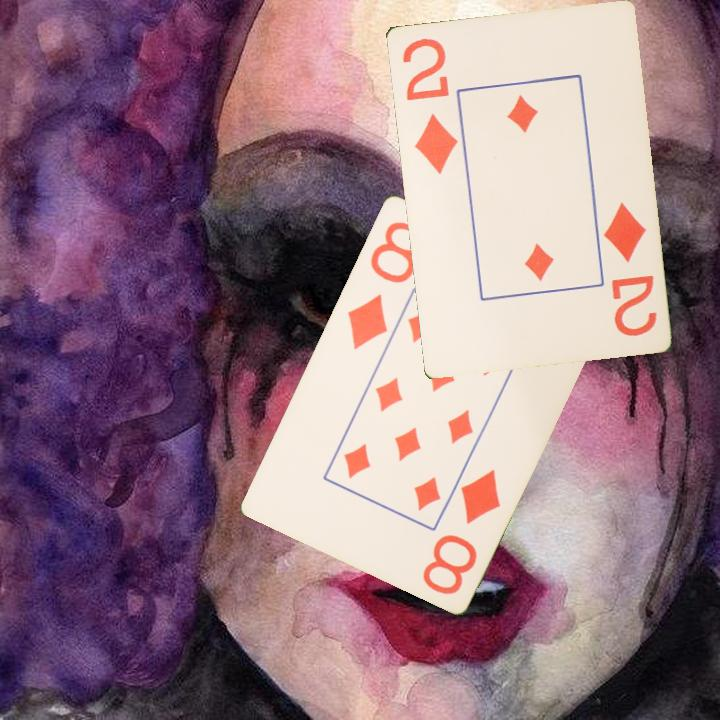2d: (398, 33, 460, 177), (599, 198, 660, 339)
8d: (343, 217, 428, 352), (418, 465, 503, 597)
